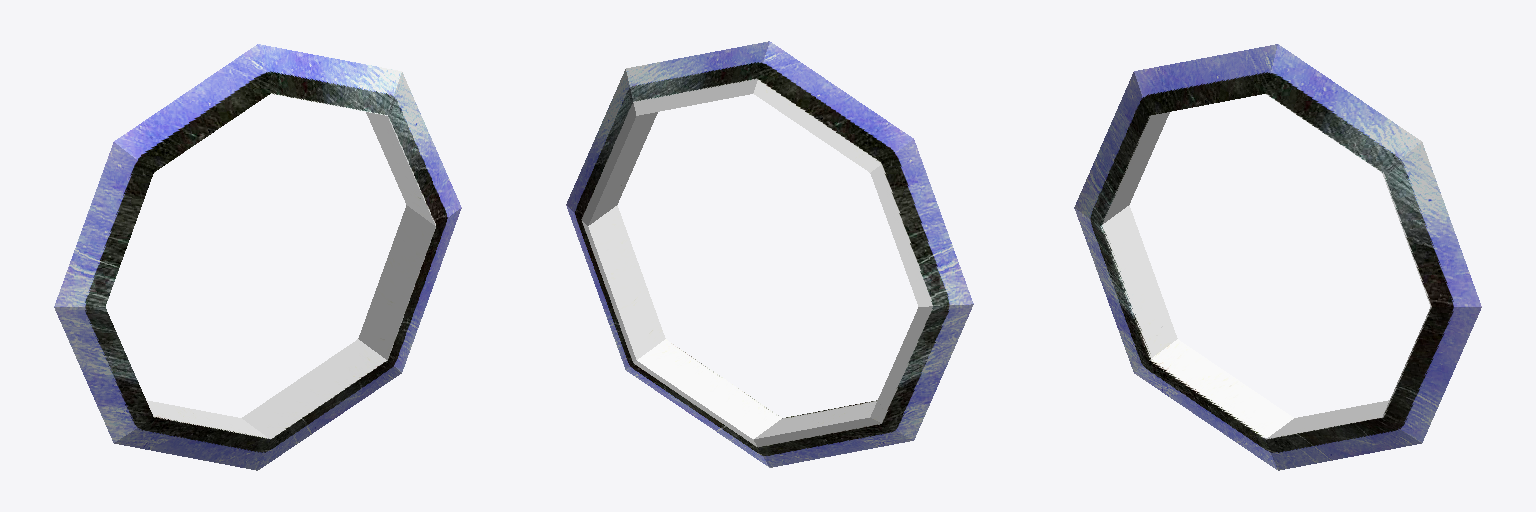
3 renders of one model, left to right at view 1: azimuth 30°, elevation 25°; view 2: azimuth 150°, elevation 25°; view 3: azimuth 330°, elevation 25°, orthographic.
Size of the model in its own units: 2 by 2 by 0.2484.
Materials: 1 (1 with a texture image).